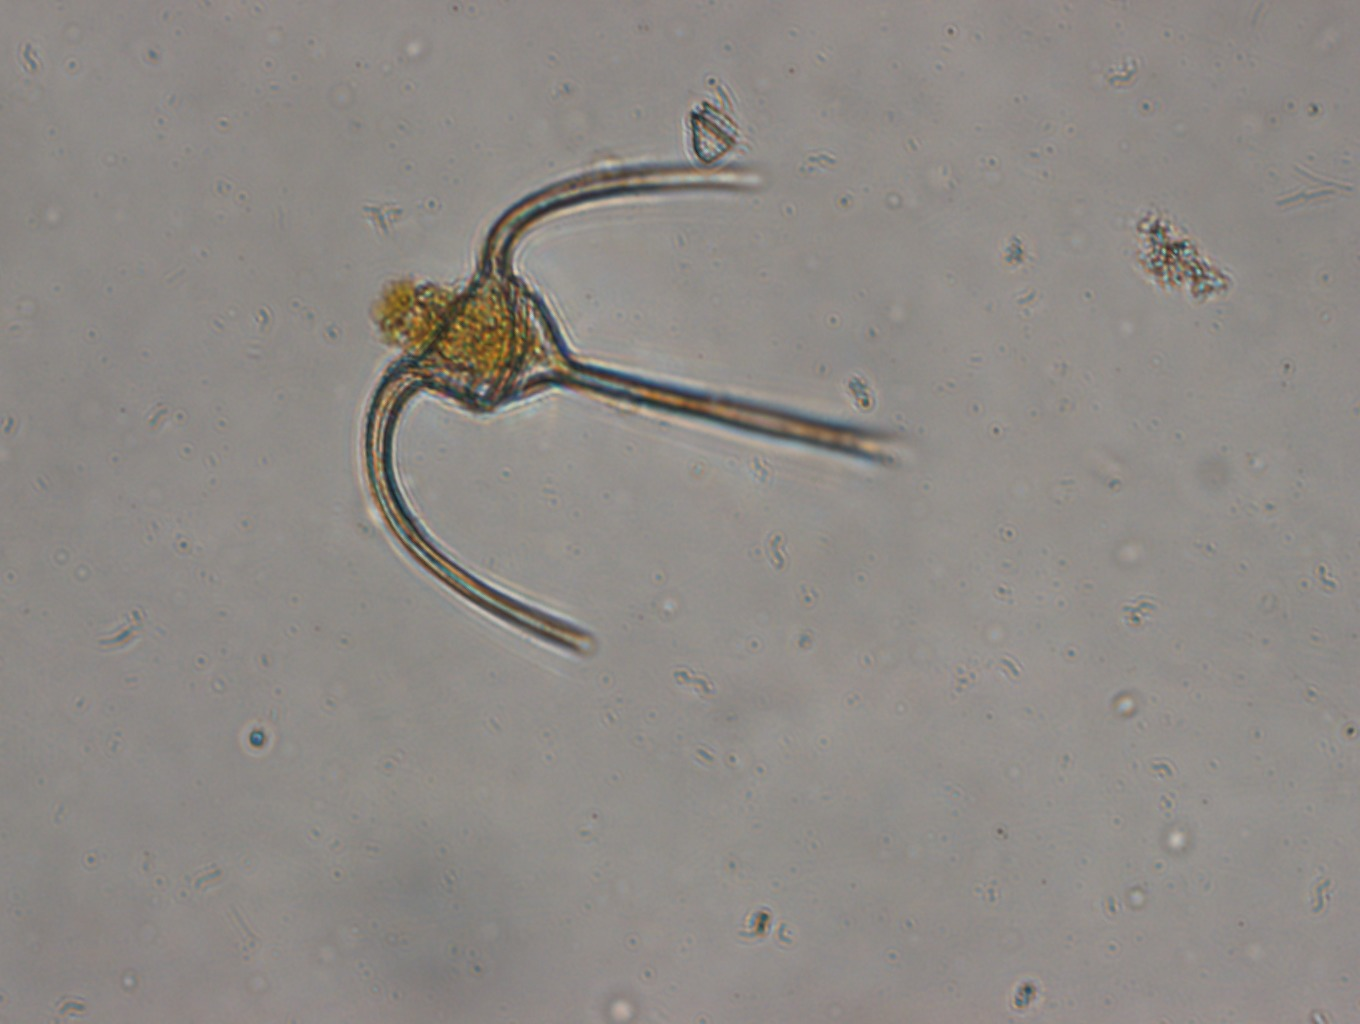ceratium trichoceros: (345, 152, 922, 665)
